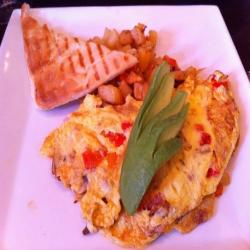bread: (15, 3, 144, 111)
omelette: (54, 75, 230, 238)
